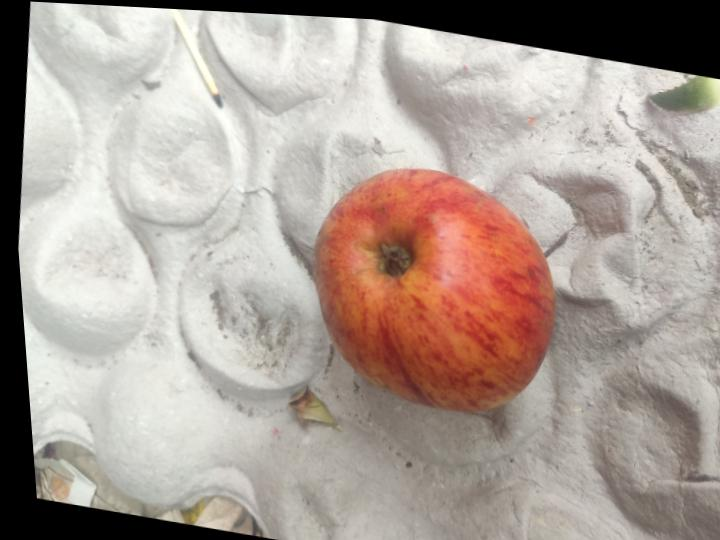apple: (314, 169, 554, 411)
